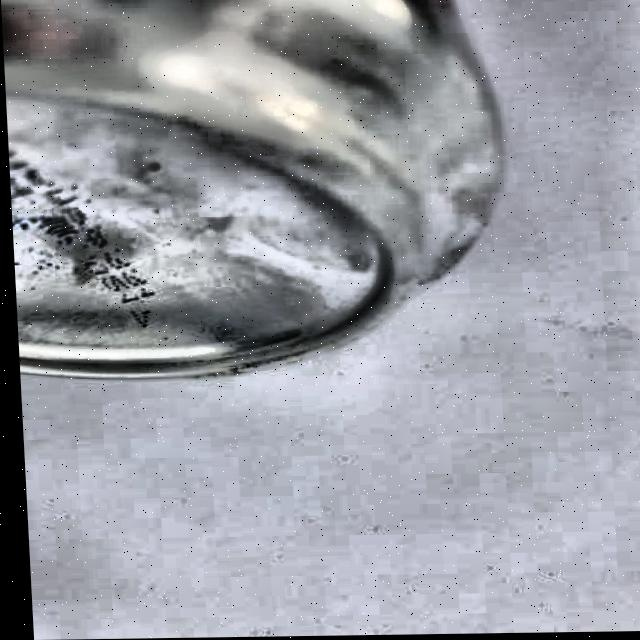metal: (0, 0, 515, 386)
